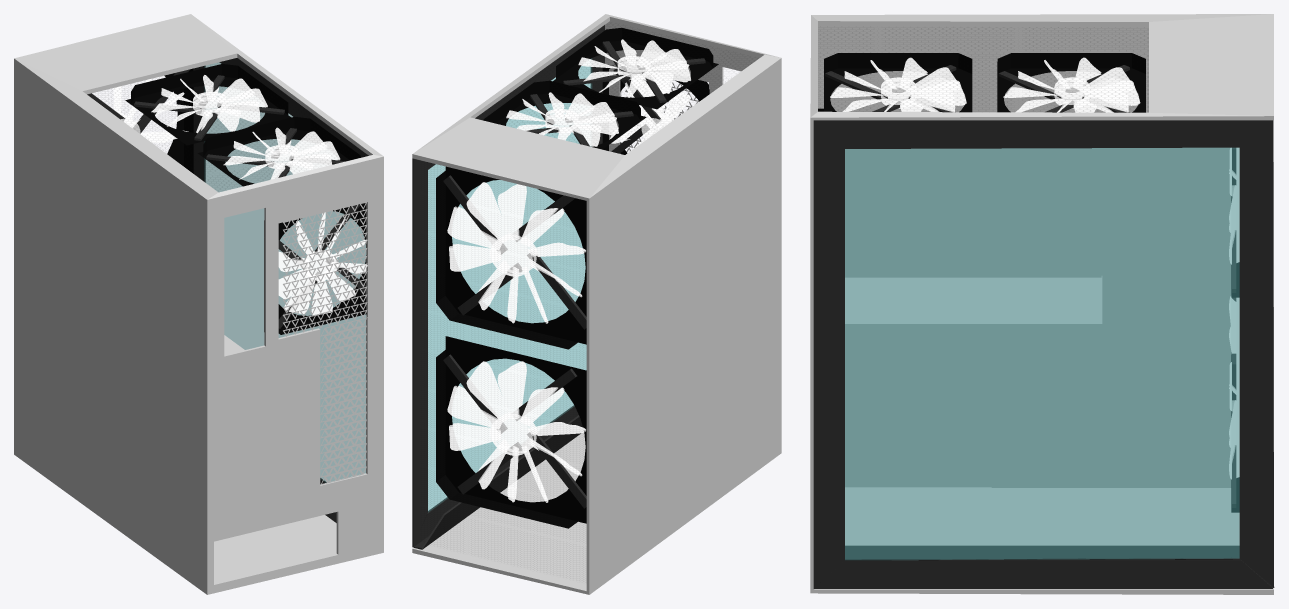
File: pc_case_final.glb
3 renders of one model, left to right at view 1: azimuth 30°, elevation 25°; view 2: azimuth 150°, elevation 25°; view 3: azimuth 270°, elevation 25°, orthographic. The views are drawn at different scales.
Visible parts, largest first — view 1: Cube, Side_Plate, PSU_Area; view 2: Cube, Side_Plate; view 3: Side_Plate, Cube, Motherboard_Area, GPU_Area, PSU_Area, Cooler_Area.001.
Part boxes in pixels (x1,y1,x2,y2): Cube: [14, 14, 383, 594]; Side_Plate: [193, 58, 368, 522]; PSU_Area: [214, 523, 332, 583]; Cube: [412, 14, 781, 594]; Side_Plate: [412, 25, 604, 549]; Side_Plate: [813, 120, 1274, 588]; Cube: [810, 14, 1273, 594]; Motherboard_Area: [821, 40, 1101, 357]; GPU_Area: [845, 276, 1102, 323]; PSU_Area: [845, 487, 991, 545]; Cooler_Area.001: [1010, 71, 1078, 148].
Bounding box in the file's own units: 214 × 460 × 404.
6 materials, 1 textured.
